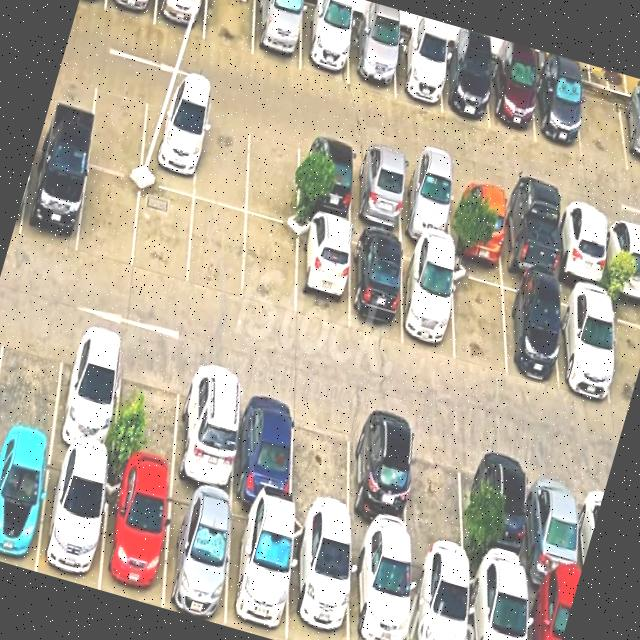empty: (112, 341, 183, 481), (0, 308, 66, 443), (291, 394, 351, 531), (411, 424, 467, 564), (77, 166, 141, 268), (87, 72, 148, 178), (133, 182, 194, 287), (452, 261, 506, 374), (187, 198, 246, 300), (246, 118, 300, 227), (194, 104, 249, 210), (242, 215, 296, 315), (577, 83, 627, 170), (609, 297, 640, 411), (203, 0, 255, 55)
occupied: (36, 447, 108, 589), (51, 323, 124, 462), (100, 465, 170, 607), (162, 483, 231, 626), (174, 359, 241, 498), (225, 501, 291, 640), (232, 376, 296, 512), (351, 409, 413, 548), (287, 517, 349, 640), (19, 145, 88, 254), (528, 456, 580, 592), (477, 442, 528, 579), (0, 434, 51, 571), (140, 88, 203, 196), (558, 284, 612, 402), (502, 274, 558, 384), (296, 216, 350, 329), (350, 537, 409, 640), (402, 244, 454, 359), (349, 230, 402, 341), (410, 550, 467, 640), (299, 133, 353, 224), (503, 188, 555, 282), (453, 174, 503, 265), (401, 159, 451, 248), (353, 146, 402, 236), (469, 566, 526, 640), (558, 201, 605, 290), (300, 2, 351, 84), (535, 68, 581, 156), (489, 56, 535, 141), (441, 47, 489, 127), (395, 33, 441, 112), (252, 0, 302, 70), (348, 21, 394, 96), (606, 213, 640, 299), (527, 580, 575, 640), (154, 0, 206, 39), (619, 95, 640, 174), (105, 0, 156, 24)
